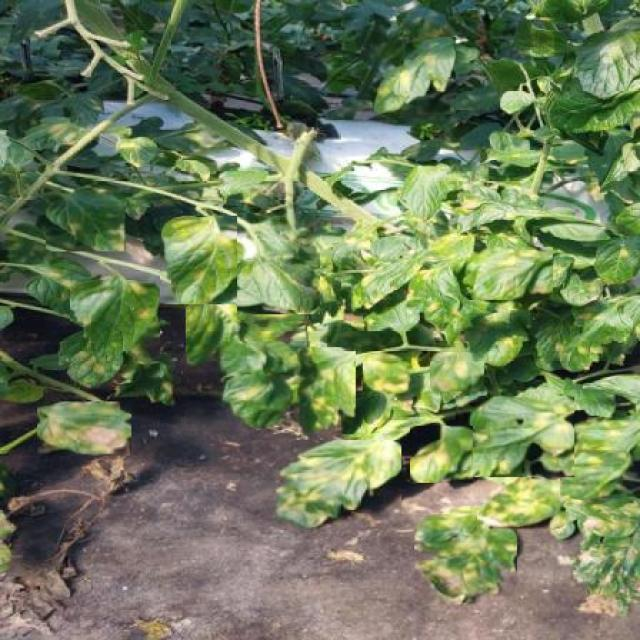Leaf Mold: (186, 304, 307, 429), (276, 440, 401, 529), (456, 396, 574, 477), (415, 514, 518, 606), (238, 213, 320, 314), (70, 276, 160, 364), (161, 216, 249, 304), (560, 416, 640, 498), (374, 38, 456, 115), (294, 347, 356, 434), (37, 402, 132, 457), (46, 187, 125, 252), (477, 478, 566, 528), (470, 247, 553, 300), (57, 327, 126, 390), (410, 426, 473, 483), (430, 352, 484, 392), (362, 353, 412, 396)
